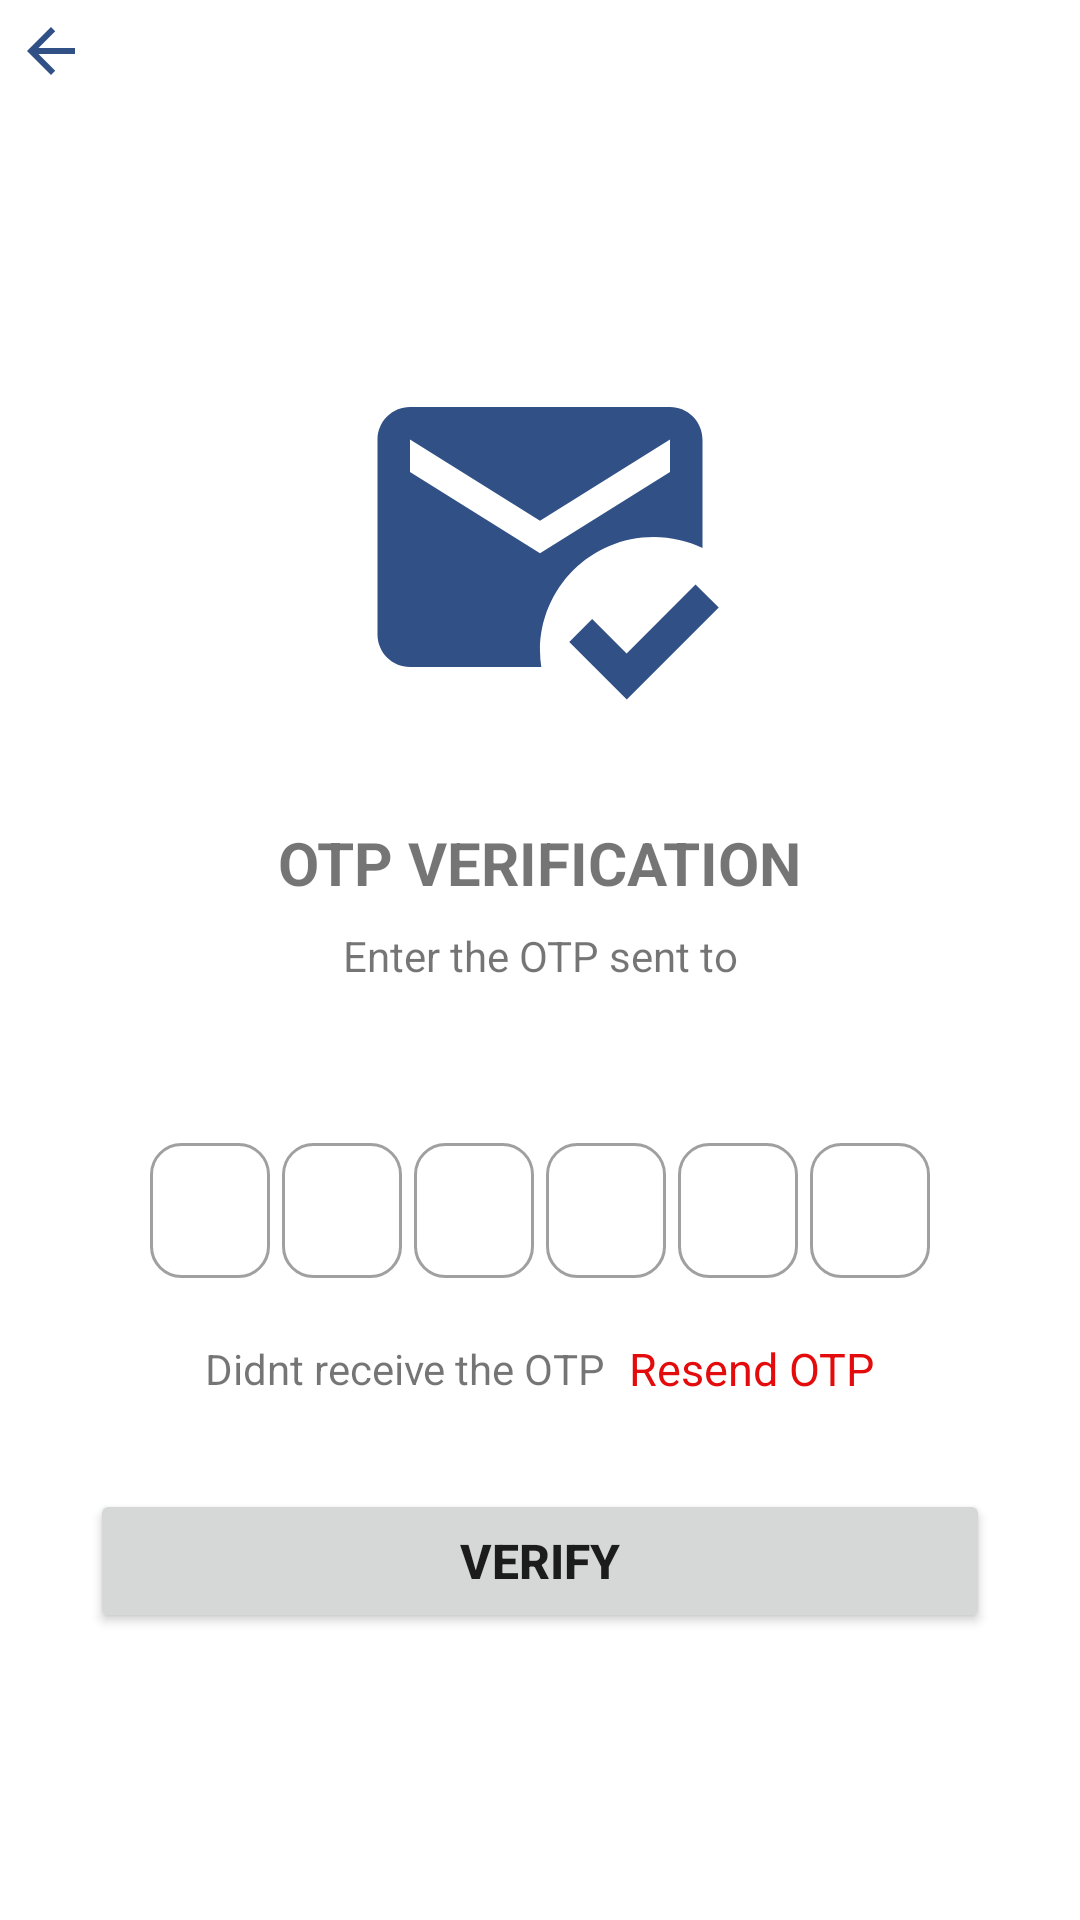

Icons on this 1080px×1920px Android screen, each with its box as (x1, y1, x2, y2):
back: (27, 27, 75, 75)
